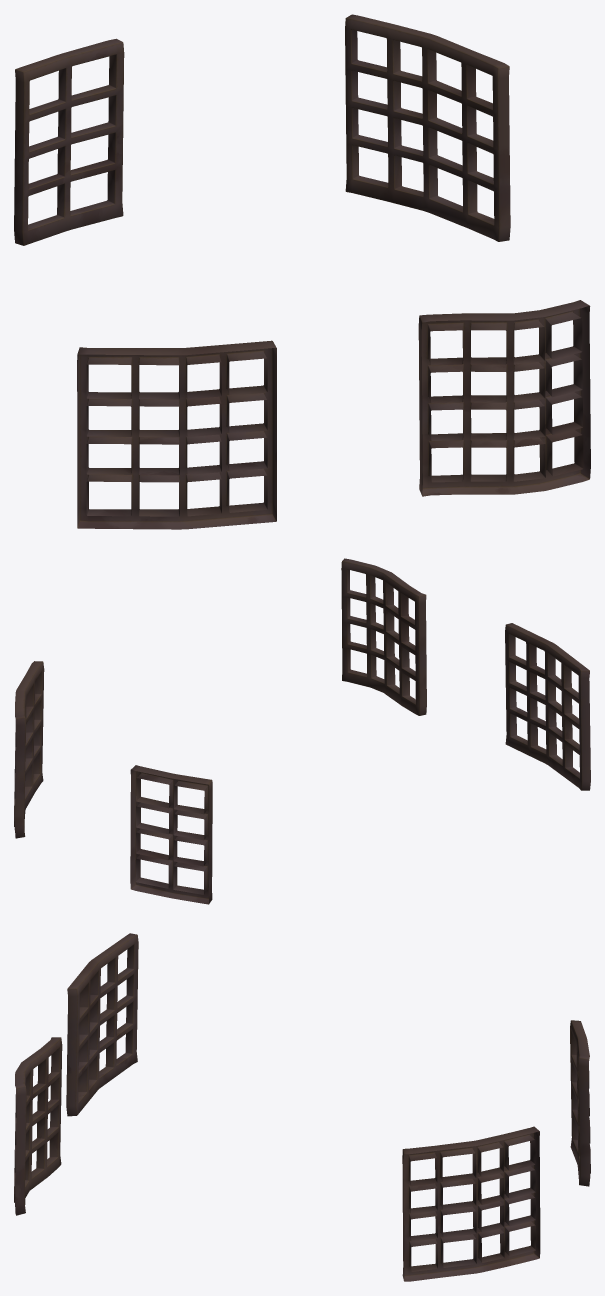
File: crates1.fbx
3 views of the same model, one above another, from view 1: azimuth 30°, elevation 25°; view 2: azimuth 150°, elevation 25°; view 3: azimuth 270°, elevation 25° (orthographic). The views are drawn at different scales.
Visible parts, largest first — view 1: windowCrate, windowCrate.001, windowCrate.002, windowCrate.003; view 2: windowCrate, windowCrate.001, windowCrate.003, windowCrate.002; view 3: windowCrate.002, windowCrate, windowCrate.001, windowCrate.003.
Boxes of the visible parts, <box> form: windowCrate: <box>77,340,276,529</box>; windowCrate.001: <box>418,300,590,496</box>; windowCrate.002: <box>345,14,510,241</box>; windowCrate.003: <box>14,38,124,245</box>; windowCrate: <box>505,623,590,790</box>; windowCrate.001: <box>341,558,426,715</box>; windowCrate.003: <box>130,765,212,904</box>; windowCrate.002: <box>14,661,44,838</box>; windowCrate.002: <box>402,1126,540,1281</box>; windowCrate: <box>66,933,138,1116</box>; windowCrate.001: <box>14,1037,62,1215</box>; windowCrate.003: <box>570,1020,590,1186</box>.
Bounding box in the file's own units: 1123 × 304 × 1234.
1 material, 1 textured.
